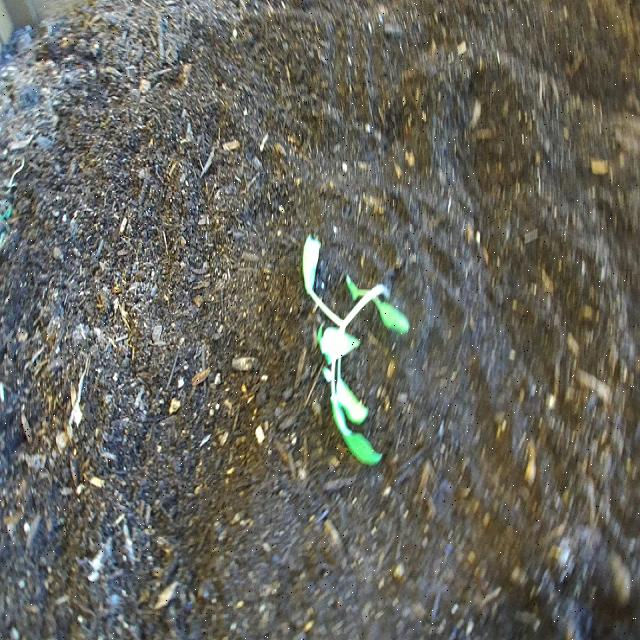Unhealthy: (289, 221, 434, 498)
